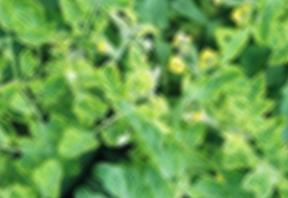Tomato leaf yellow virus: (171, 45, 247, 124), (48, 111, 110, 173), (85, 51, 138, 105), (63, 83, 116, 134), (24, 63, 75, 114), (15, 15, 62, 60), (6, 44, 47, 88), (117, 38, 160, 79), (218, 136, 259, 179), (252, 107, 288, 150), (50, 0, 94, 35), (218, 89, 258, 125), (238, 68, 275, 106), (105, 0, 141, 22), (95, 0, 141, 4), (69, 0, 113, 3)
